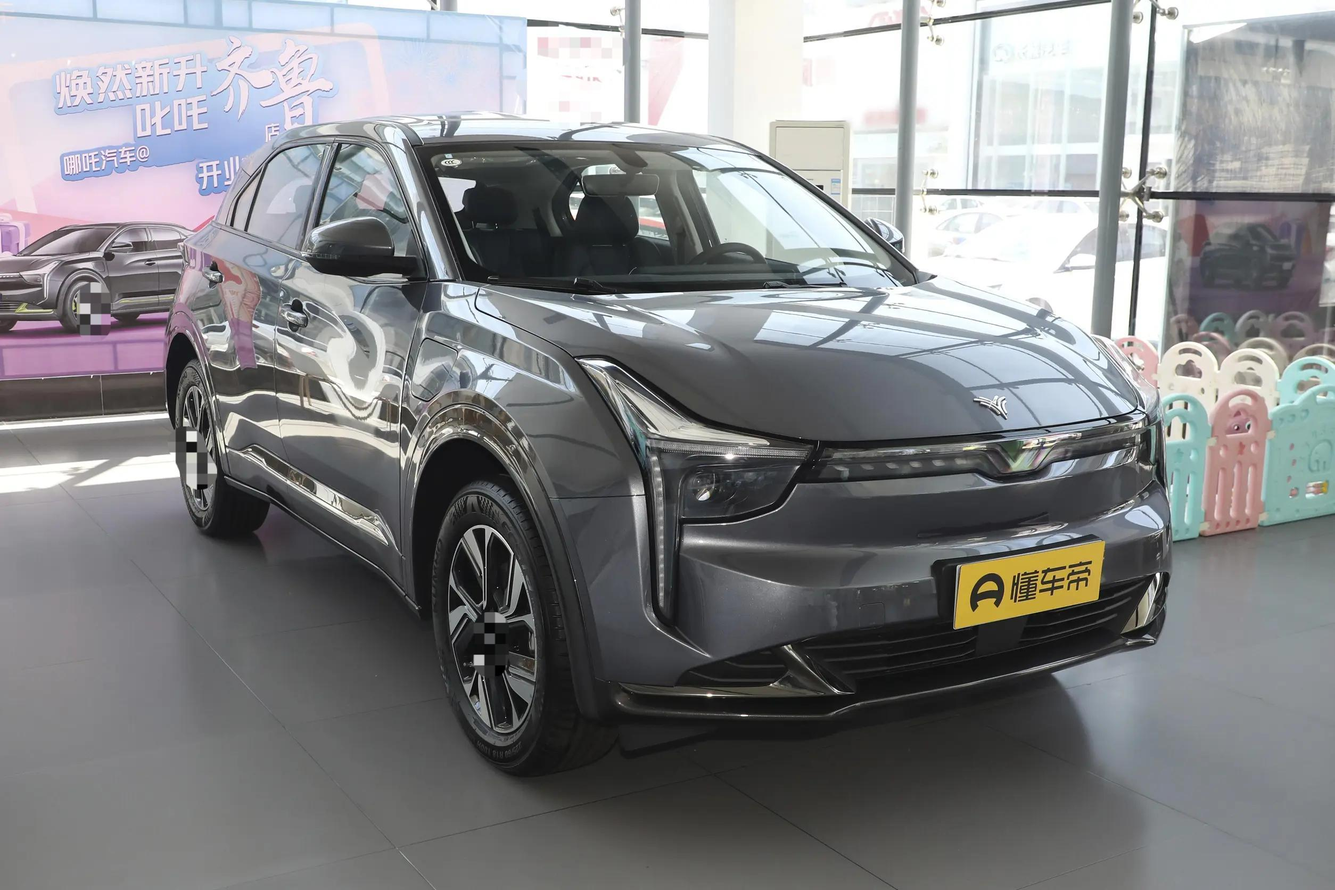NETA: (972, 394, 1010, 421)
